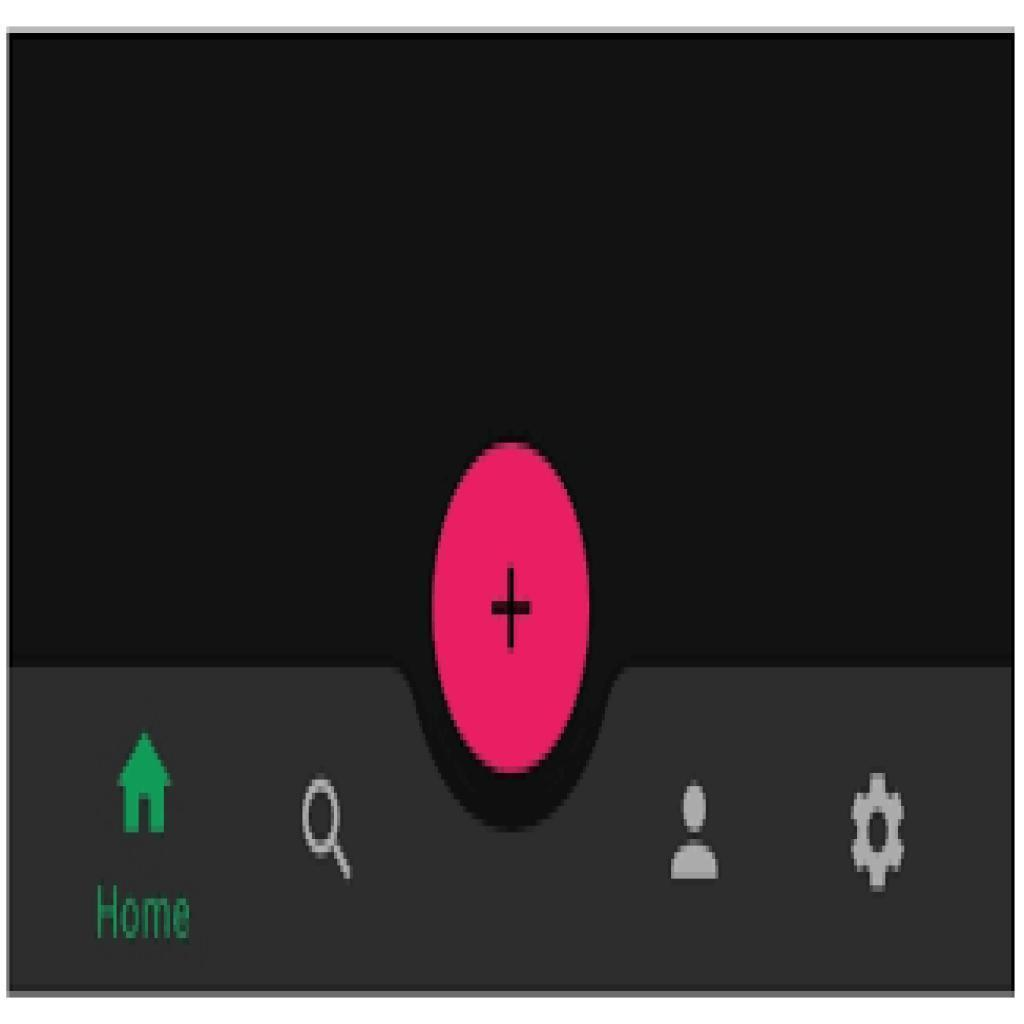icon: (840, 766, 915, 900), (293, 771, 363, 892), (660, 774, 725, 893), (116, 730, 173, 850)
